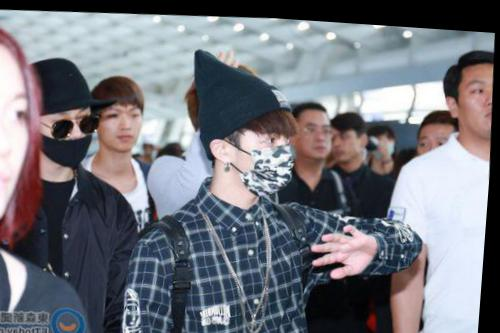NONE: (1, 94, 43, 217), (455, 67, 496, 131), (100, 101, 144, 149), (416, 126, 456, 163), (304, 118, 338, 153), (330, 128, 361, 159)
OK: (232, 116, 304, 187)
WRONG: (40, 108, 101, 170)
